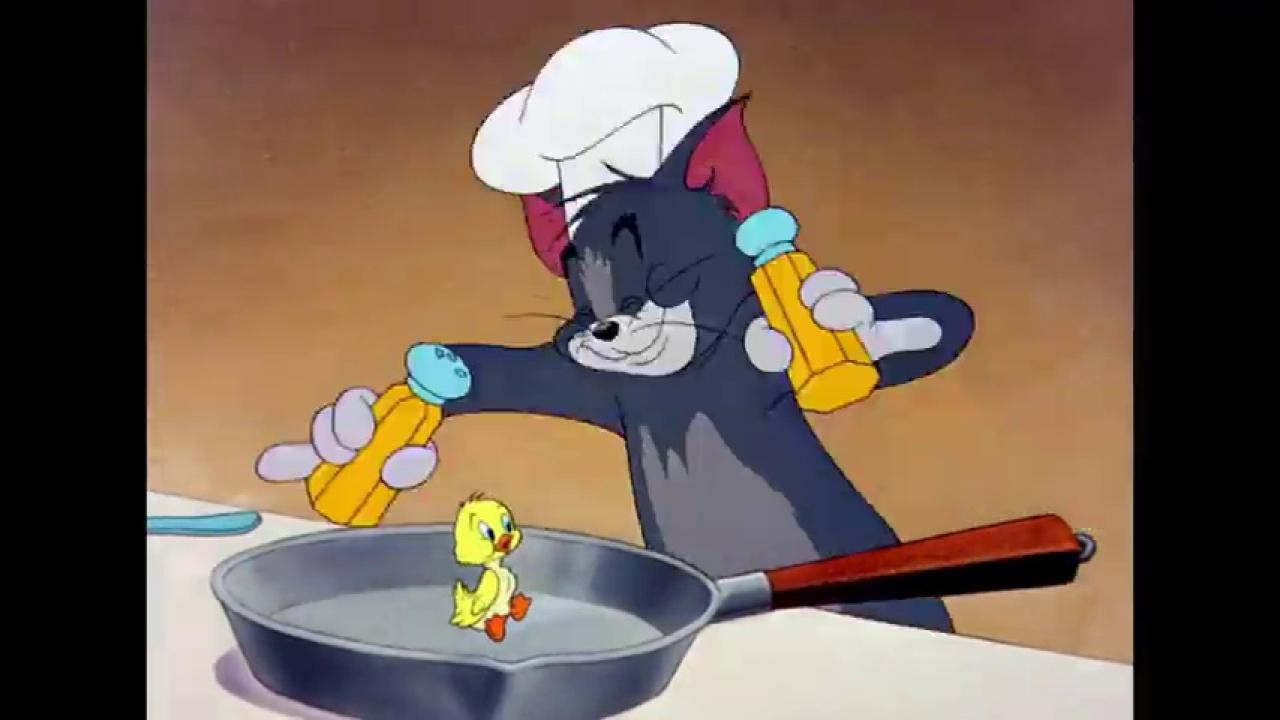Tom: (250, 93, 979, 635)
